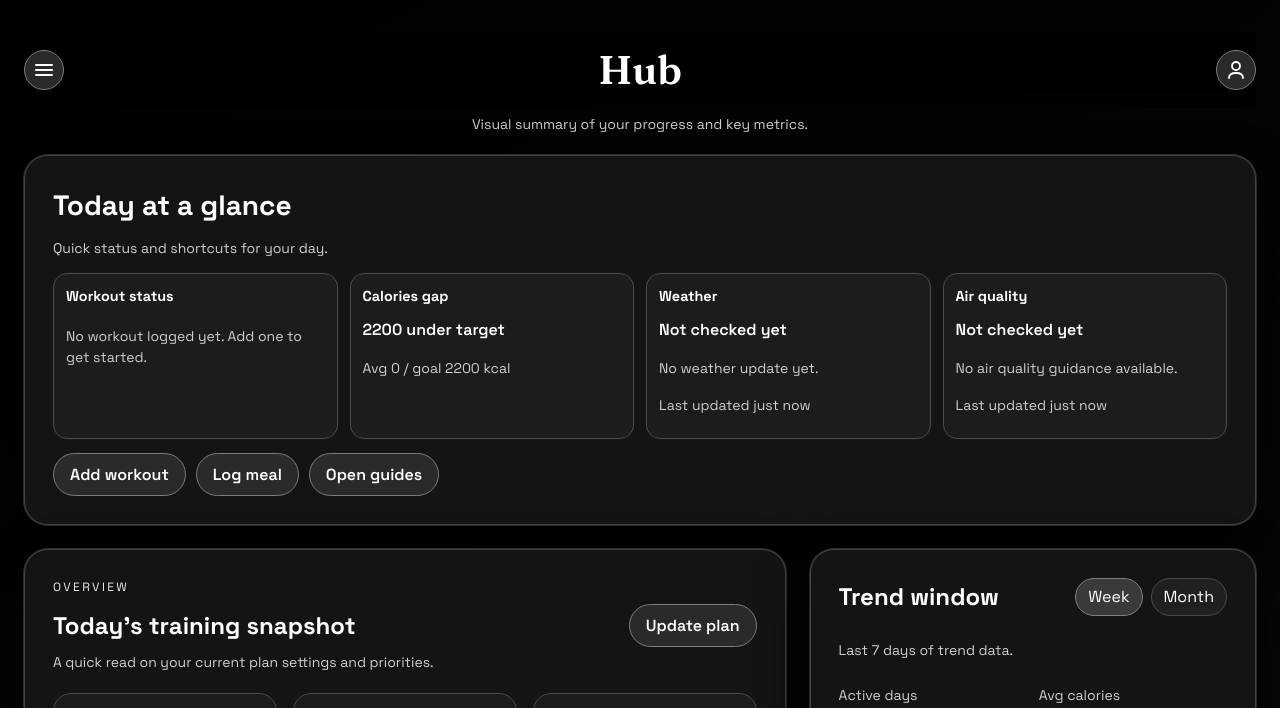
Test: Dashboard integration flows › dismisses toast from close button
Click the button "Add workout" at (119, 474), box [53,453,186,496]
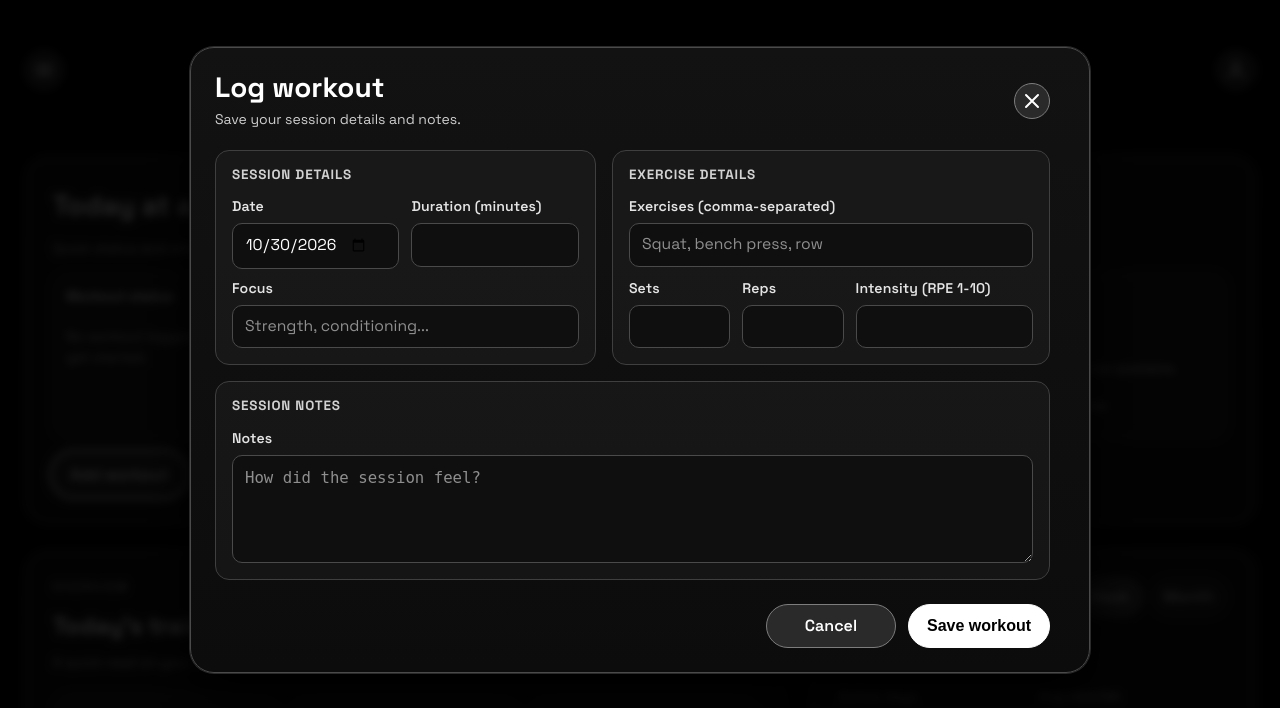
Type "45" into the number field labelled "Duration (minutes)" at (495, 245), box [412,223,579,267]
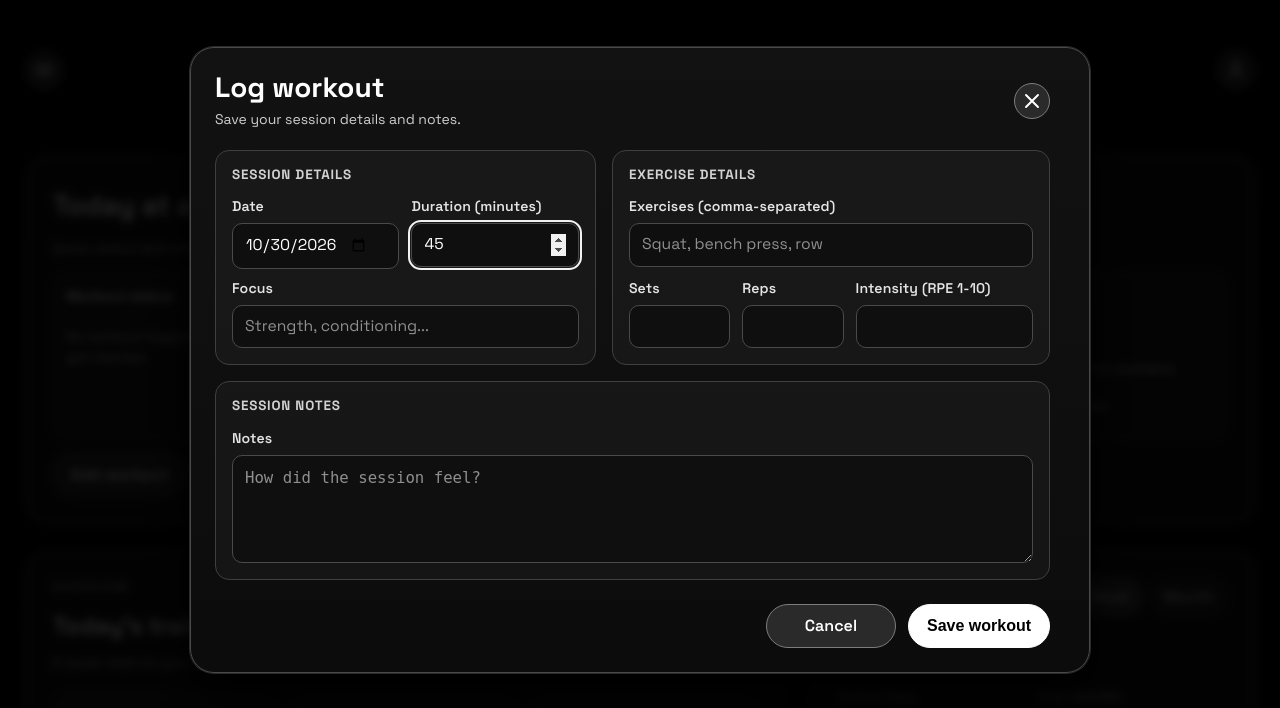
Click the button "Save workout" at (979, 626), box [908,604,1050,648]
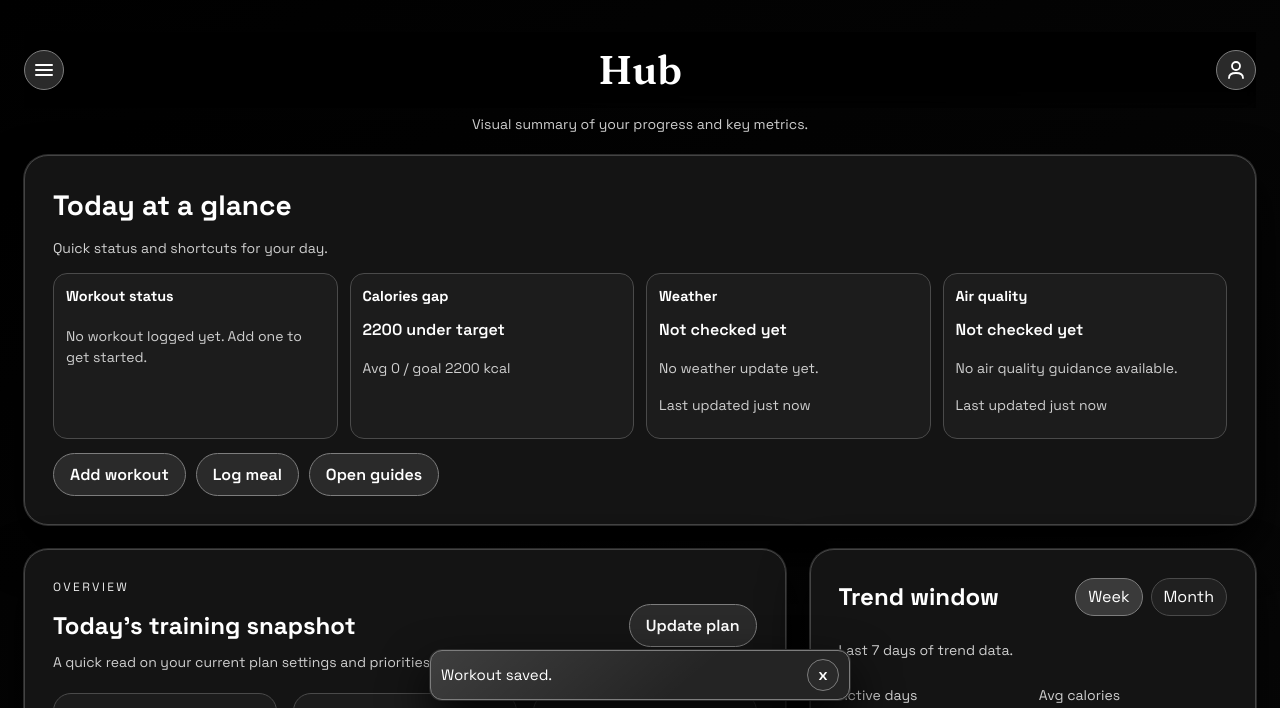
Expected: the text "Workout saved." is shown, [441,665,552,684]
Click the button named "dismiss message" at (823, 675), box [807,659,839,691]
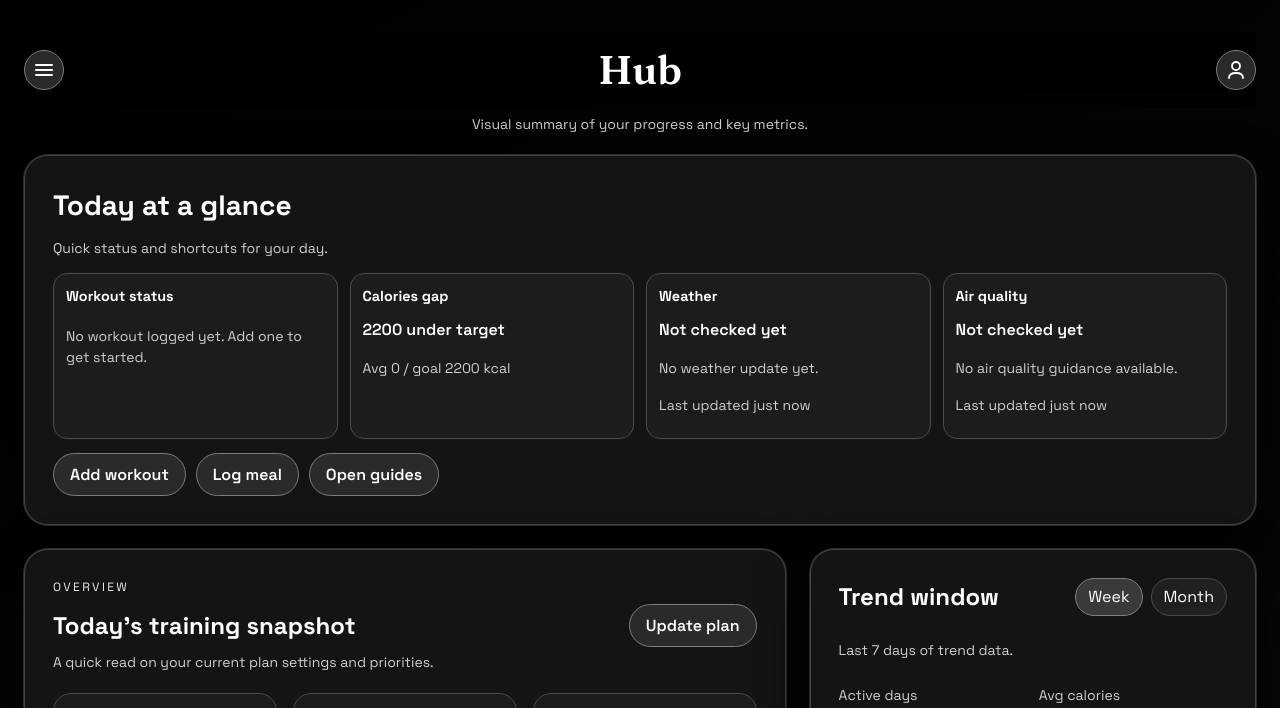
Expected: the text "Workout saved." is gone
